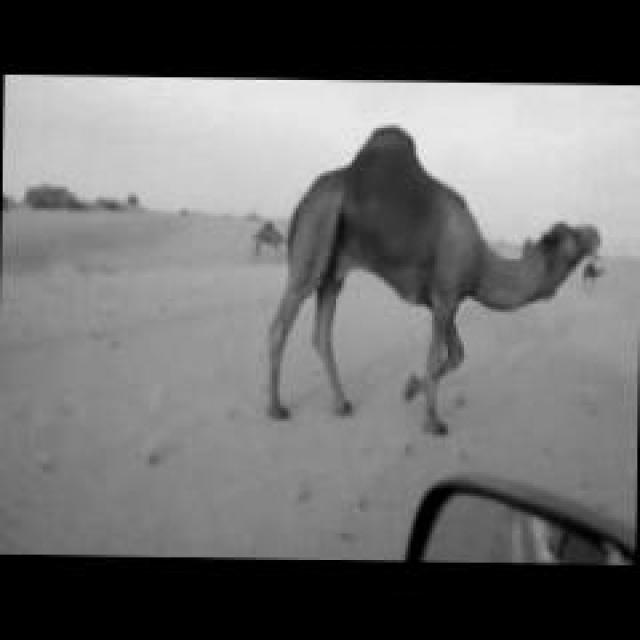Camel: (261, 123, 603, 434)
